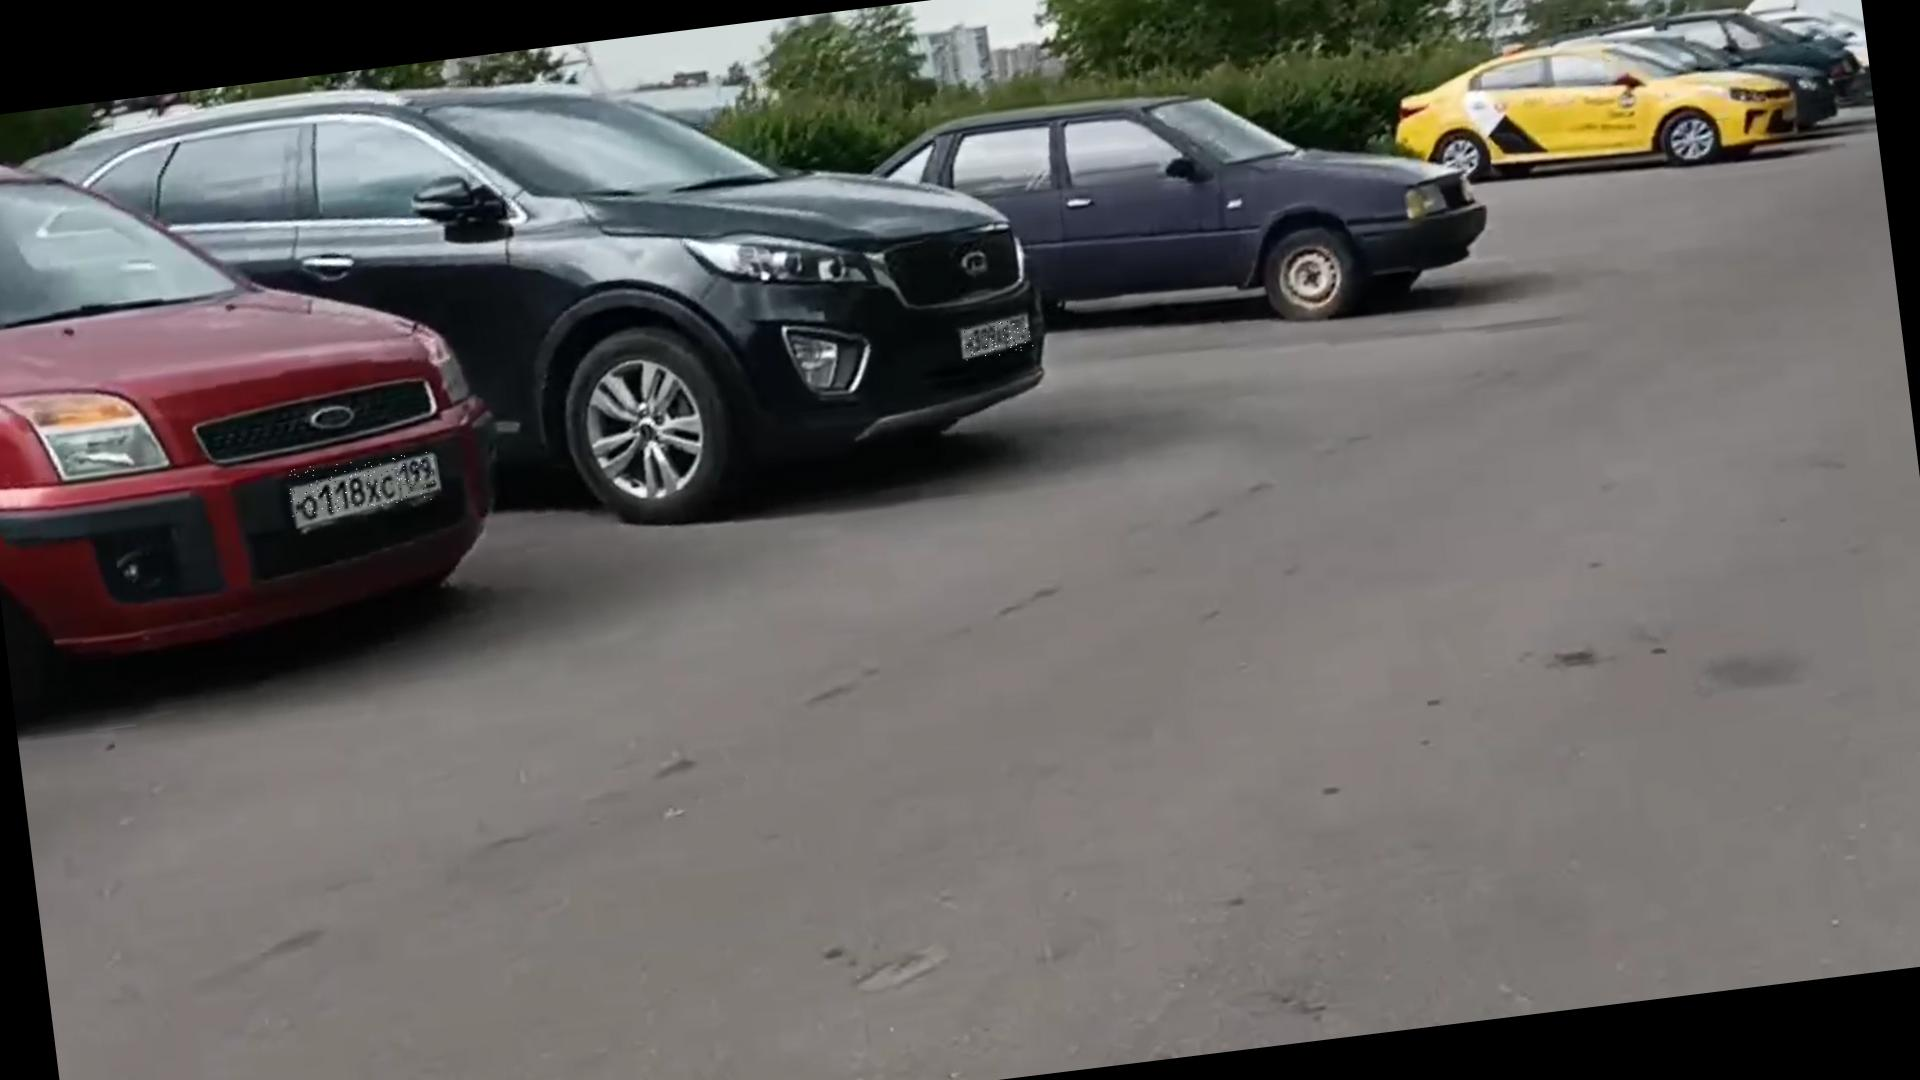plate: (285, 453, 442, 519), (963, 319, 1035, 361)
